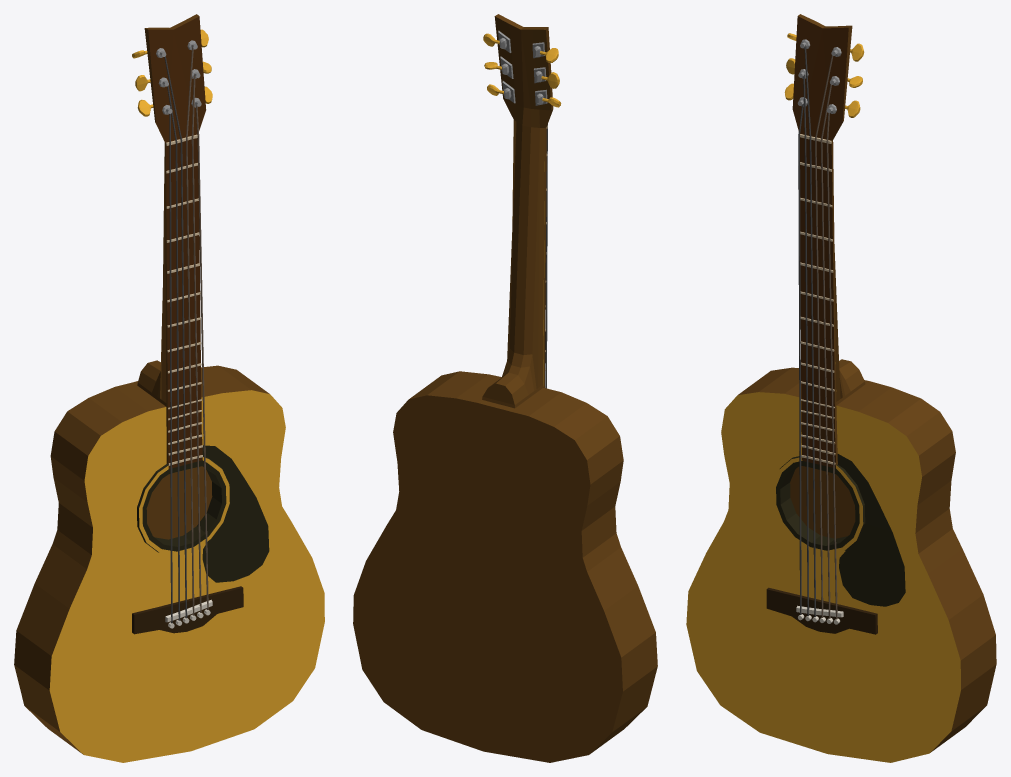
The model's file is fav_guitar.fbx.
3 views of the same model, side by side, from view 1: azimuth 30°, elevation 25°; view 2: azimuth 150°, elevation 25°; view 3: azimuth 330°, elevation 25° (orthographic).
Parts seen in each view (by area): view 1: Guitar; view 2: Guitar; view 3: Guitar.
Boxes of the visible parts, <box> form: Guitar: <box>14,14,324,762</box>; Guitar: <box>353,14,657,762</box>; Guitar: <box>686,14,996,762</box>.
Bounding box in the file's own units: 789 × 1990 × 203.
